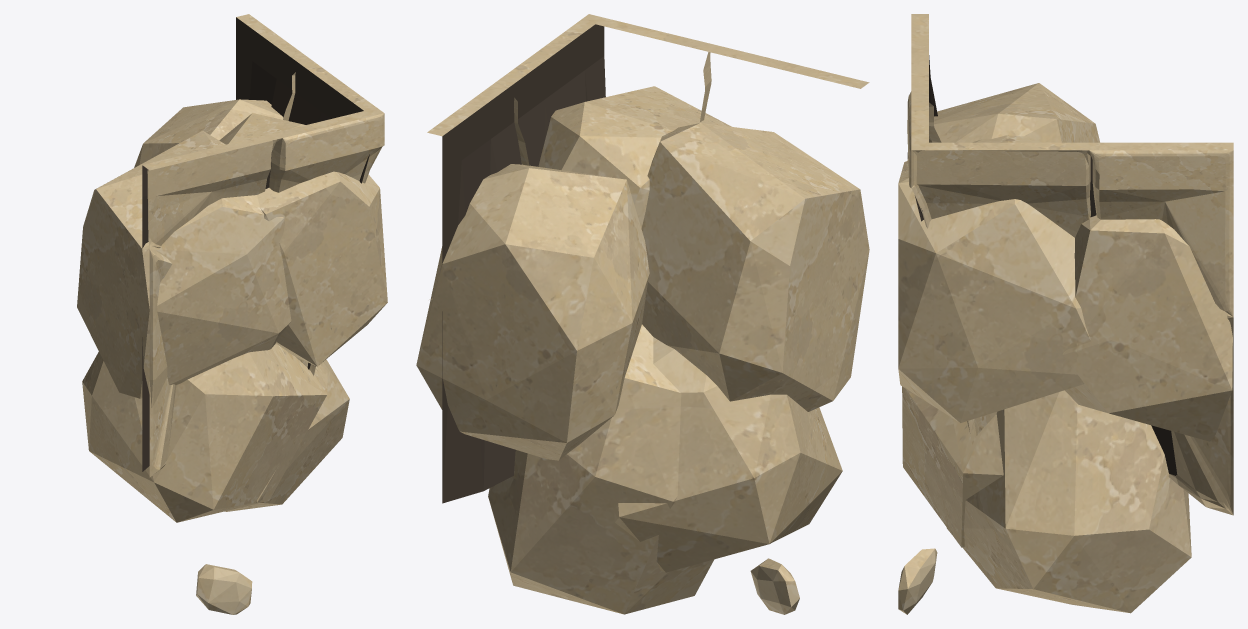
The model's file is ground_bottom_corner_07.glb.
The picture shows the model from 3 angles, left to right: view 1: azimuth 30°, elevation 25°; view 2: azimuth 150°, elevation 25°; view 3: azimuth 270°, elevation 25°; orthographic projection. The views are drawn at different scales.
Visible parts, largest first — view 1: GroundBottomCorner07_Body; view 2: GroundBottomCorner07_Body; view 3: GroundBottomCorner07_Body.
Boxes of the visible parts, bbox=[...] form: GroundBottomCorner07_Body: bbox=[77, 14, 387, 614]; GroundBottomCorner07_Body: bbox=[416, 14, 869, 614]; GroundBottomCorner07_Body: bbox=[898, 14, 1233, 614].
Bounding box in the file's own units: 1.04 × 1.89 × 1.04.
10 materials, 9 textured.
